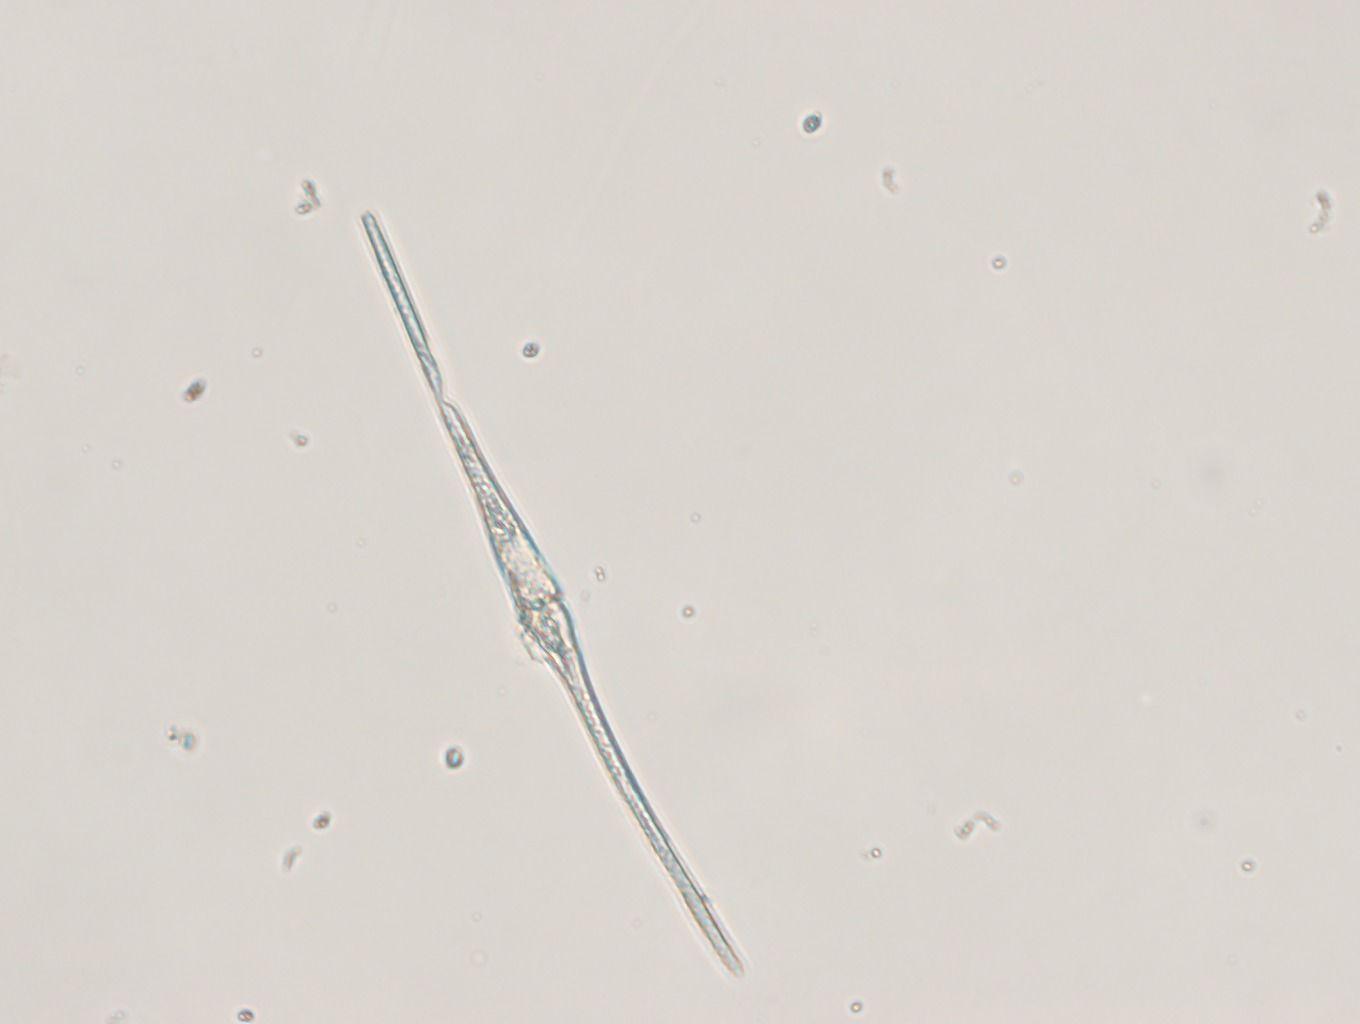ceratium fusus: (359, 212, 756, 983)
